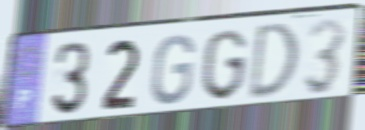2: (101, 37, 141, 112)
3: (302, 15, 351, 97), (50, 40, 92, 118)
D: (246, 20, 301, 103)
G: (200, 27, 249, 103), (148, 33, 197, 108)
